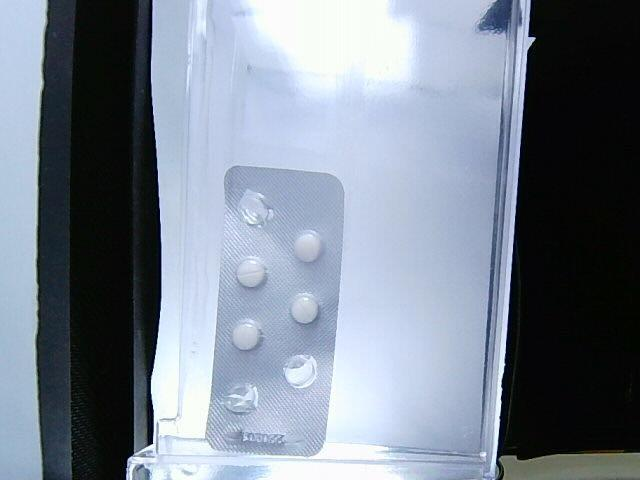Light Front: (206, 167, 346, 458)
No Pill Front: (234, 186, 276, 228), (281, 347, 321, 391), (223, 379, 263, 419)
Pill Front: (291, 227, 328, 264), (234, 253, 269, 291), (231, 317, 266, 352), (290, 290, 322, 324)
